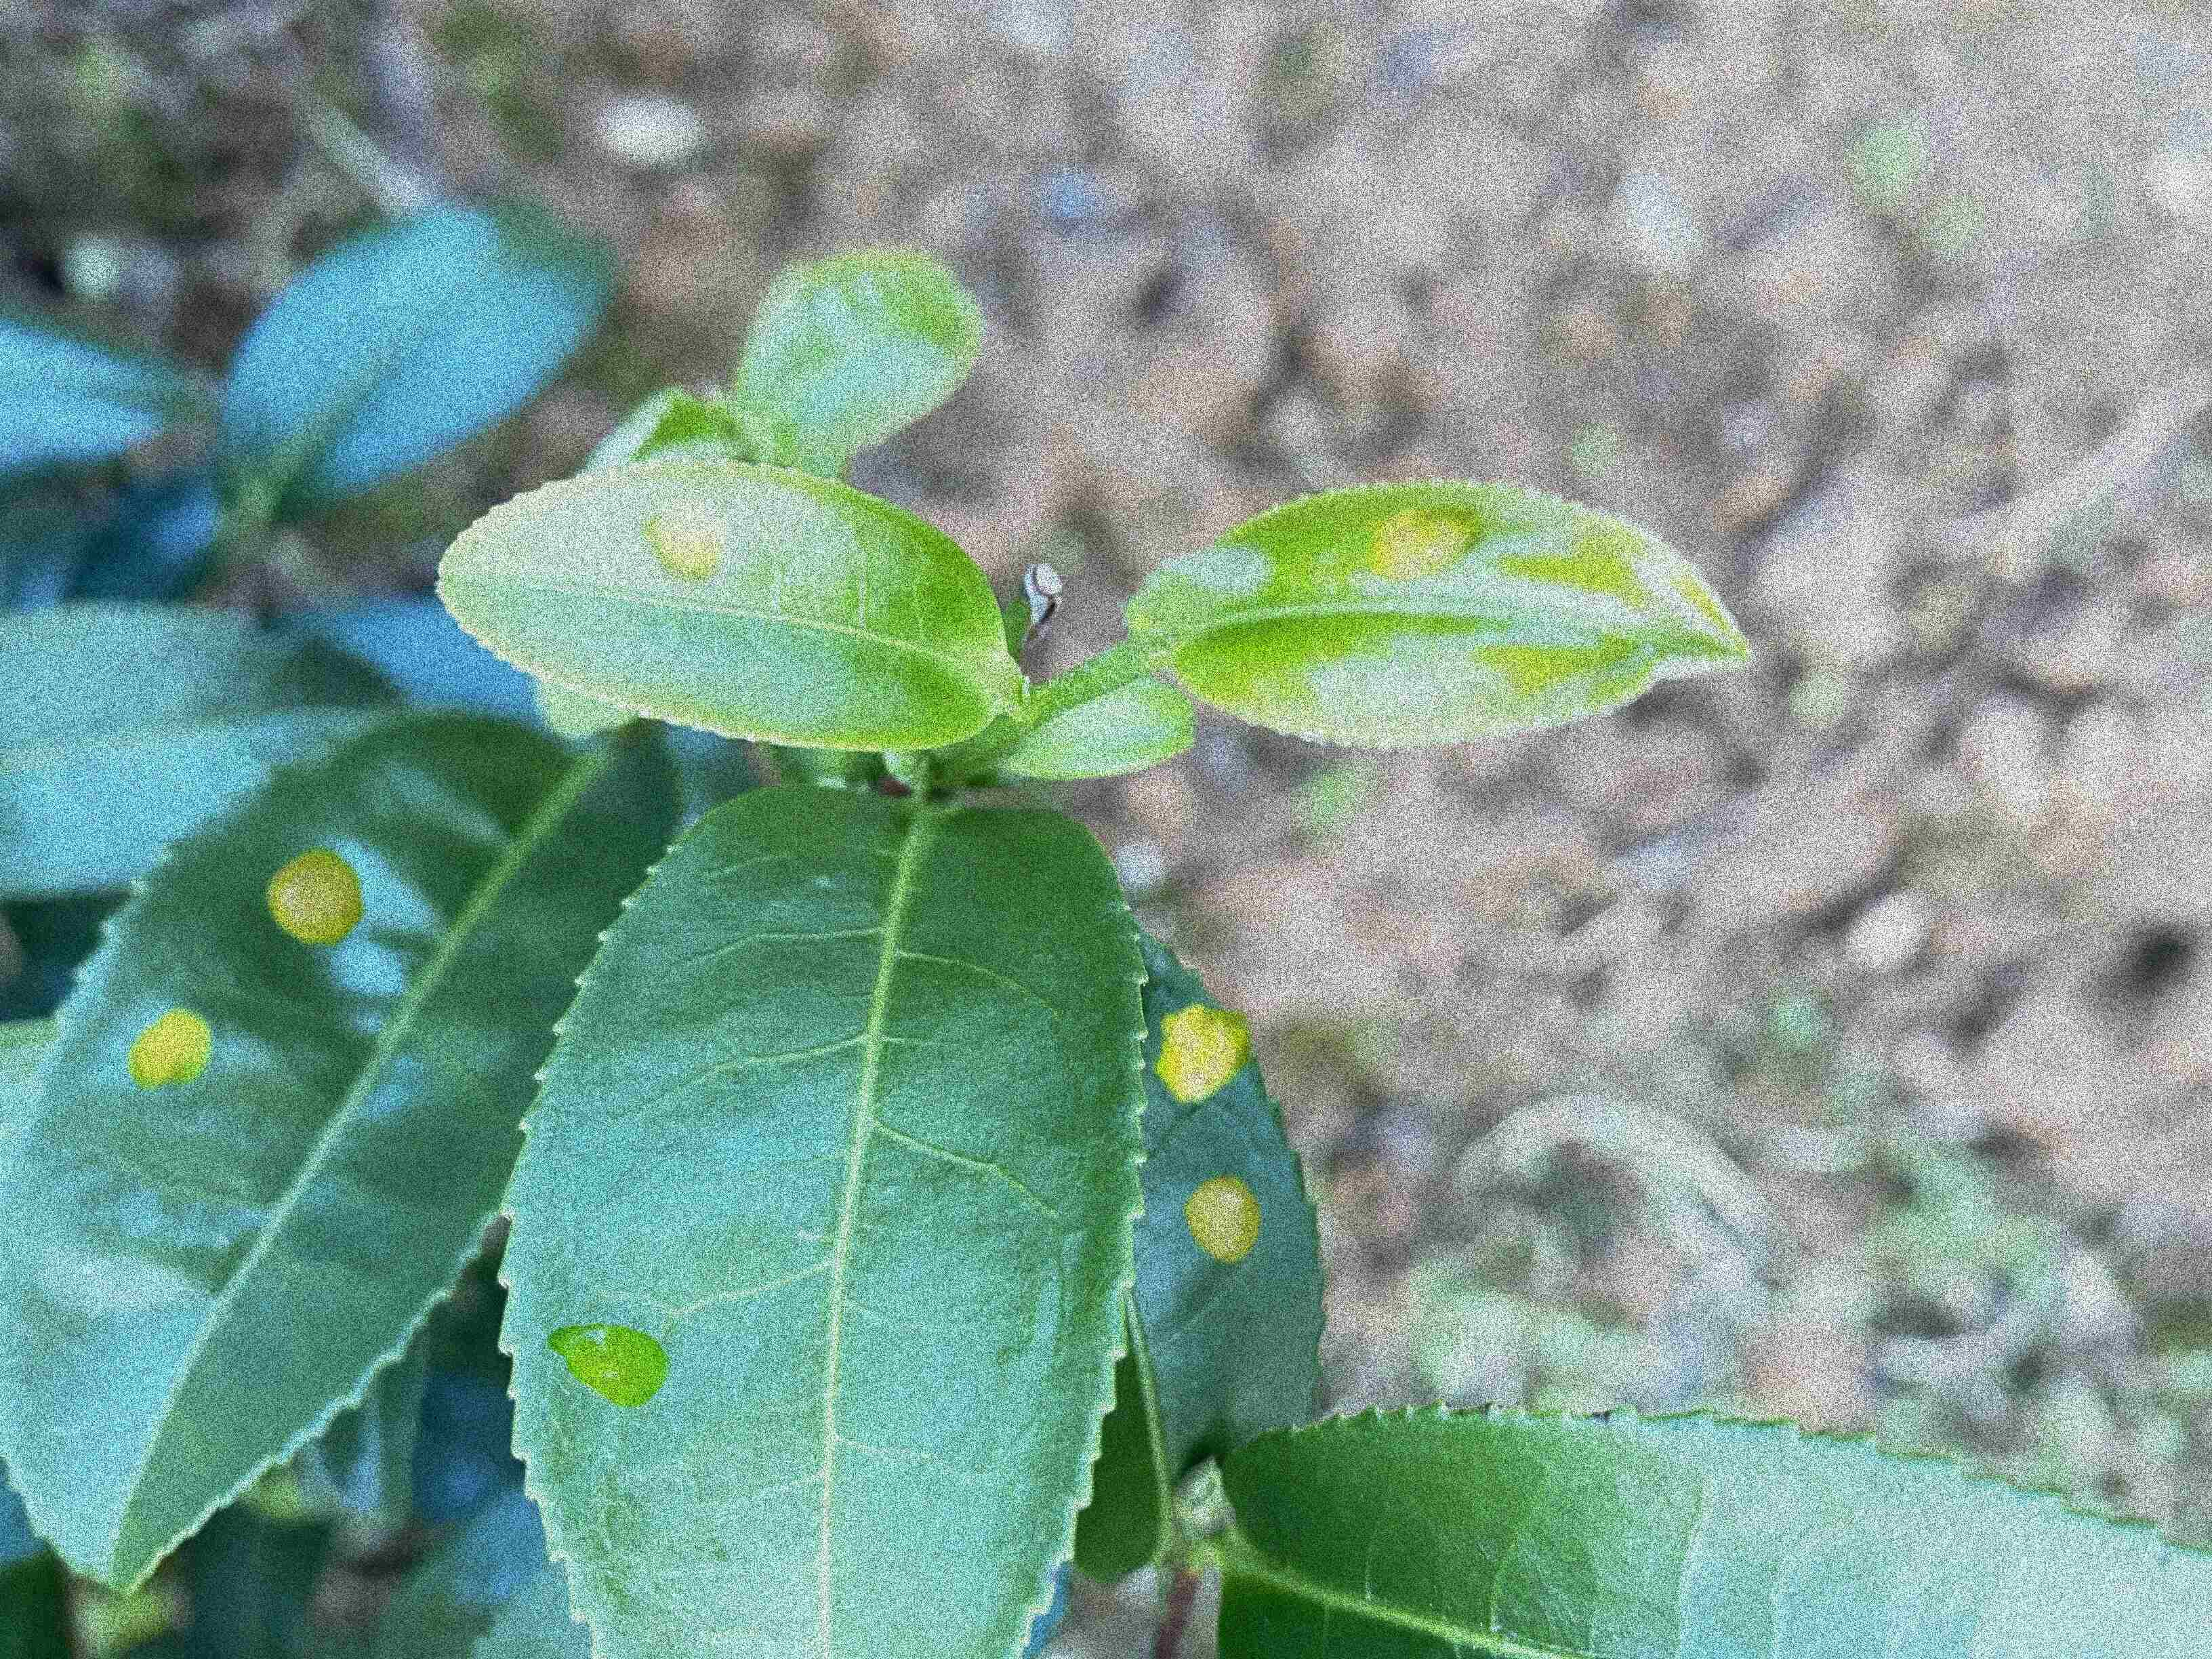chabing_high: (3, 714, 688, 1595), (1066, 918, 1332, 1589)
chabing_low: (498, 782, 1155, 1657), (435, 458, 1005, 751), (1170, 471, 1756, 749)
healthy: (1211, 1403, 2207, 1657)
